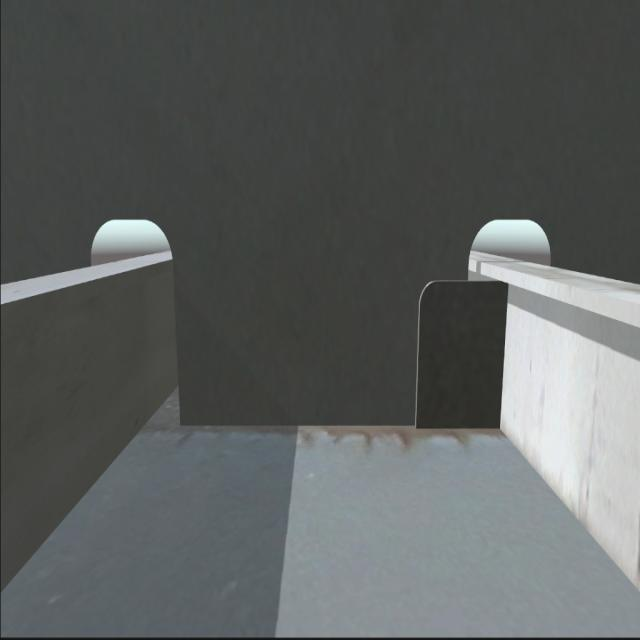fillet_yong_jeop_jang: (180, 404, 506, 442)
longi_yong_jeop_jang: (497, 283, 514, 437)
plate_CP05: (411, 278, 507, 426)
